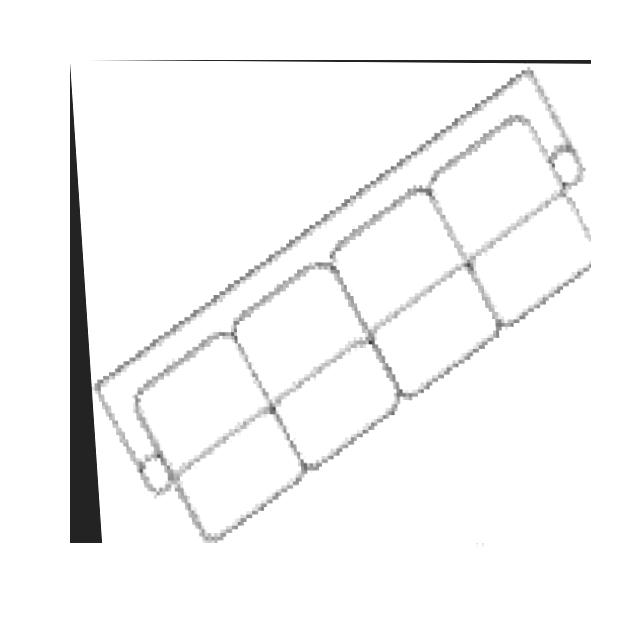sofa: (70, 60, 591, 543)
